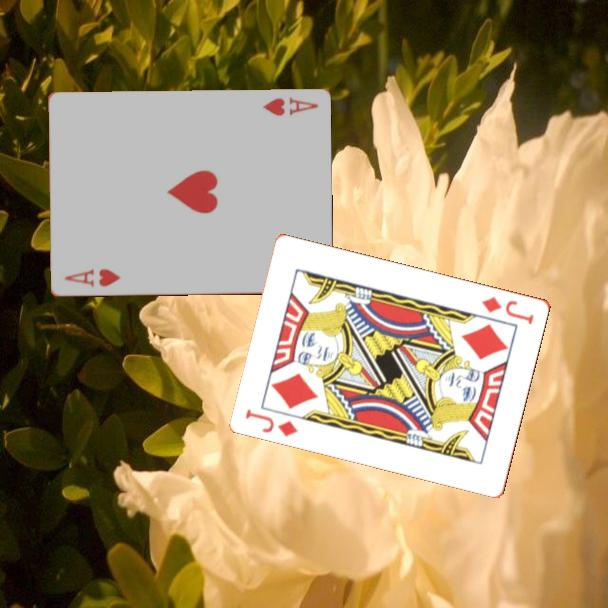d11: (242, 405, 301, 439), (479, 293, 537, 327)
h01: (61, 265, 123, 290), (259, 94, 321, 119)
